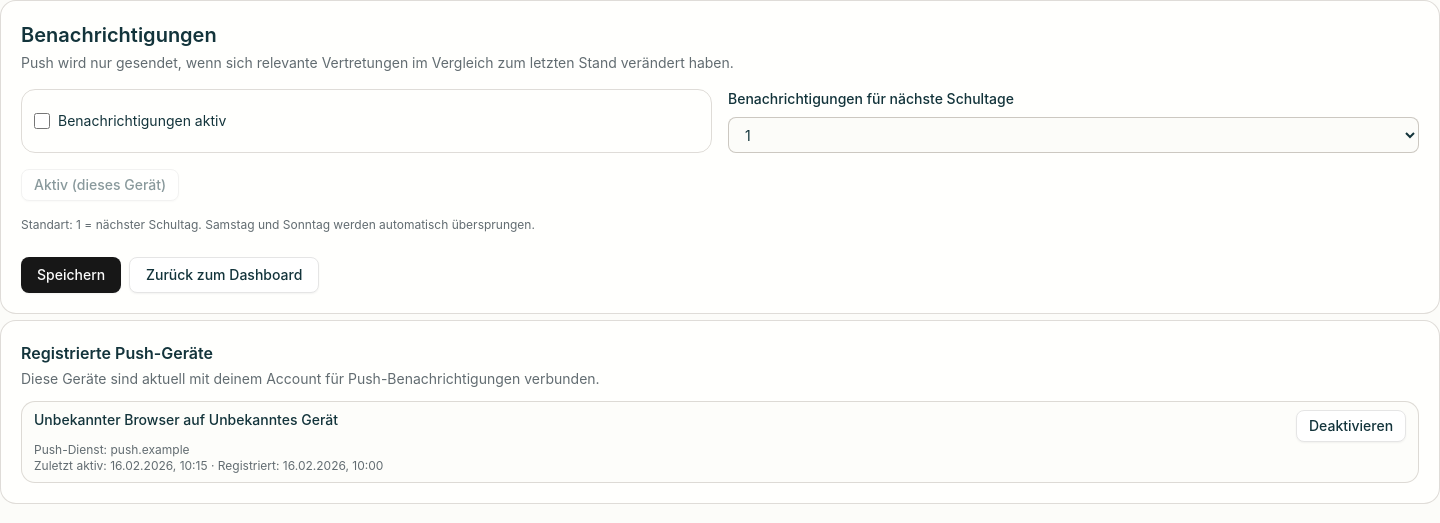
Test case: UserSettingsPanel current-device push control › switches back to activate when current device is deactivated in list
Expected: the button "Aktiv (dieses Gerät)" is disabled, left=21, top=169, right=179, bottom=201
Click the button "Deaktivieren". click: (1351, 426)
box: left=1296, top=410, right=1406, bottom=442
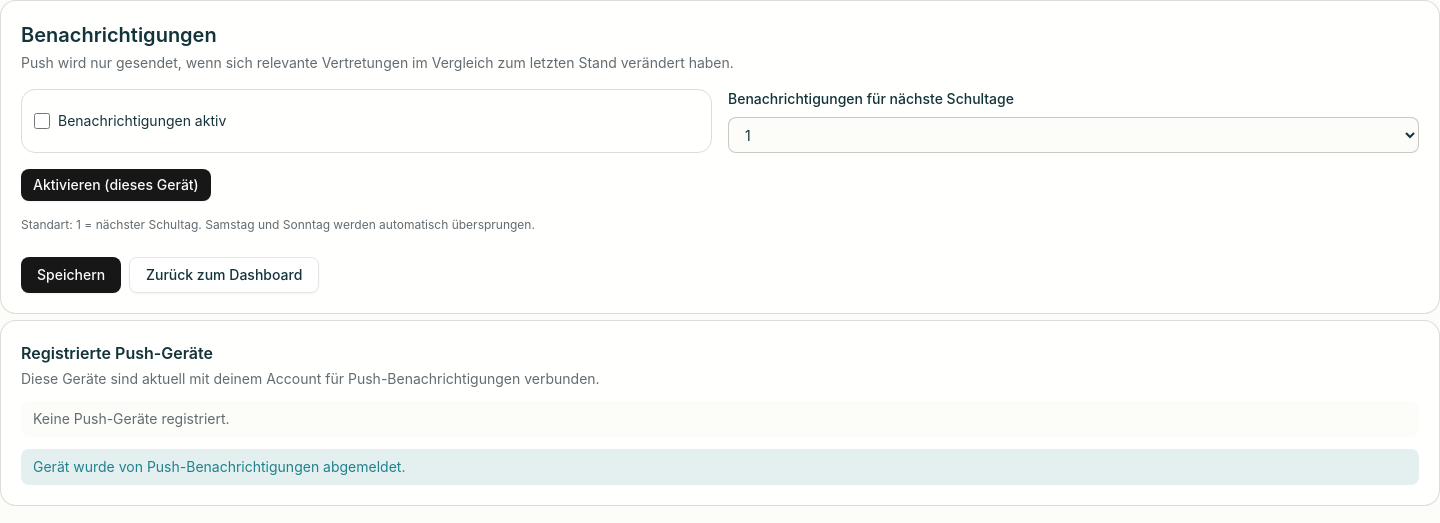
Expected: the button "Aktivieren (dieses Gerät)" is enabled, left=21, top=169, right=211, bottom=201
